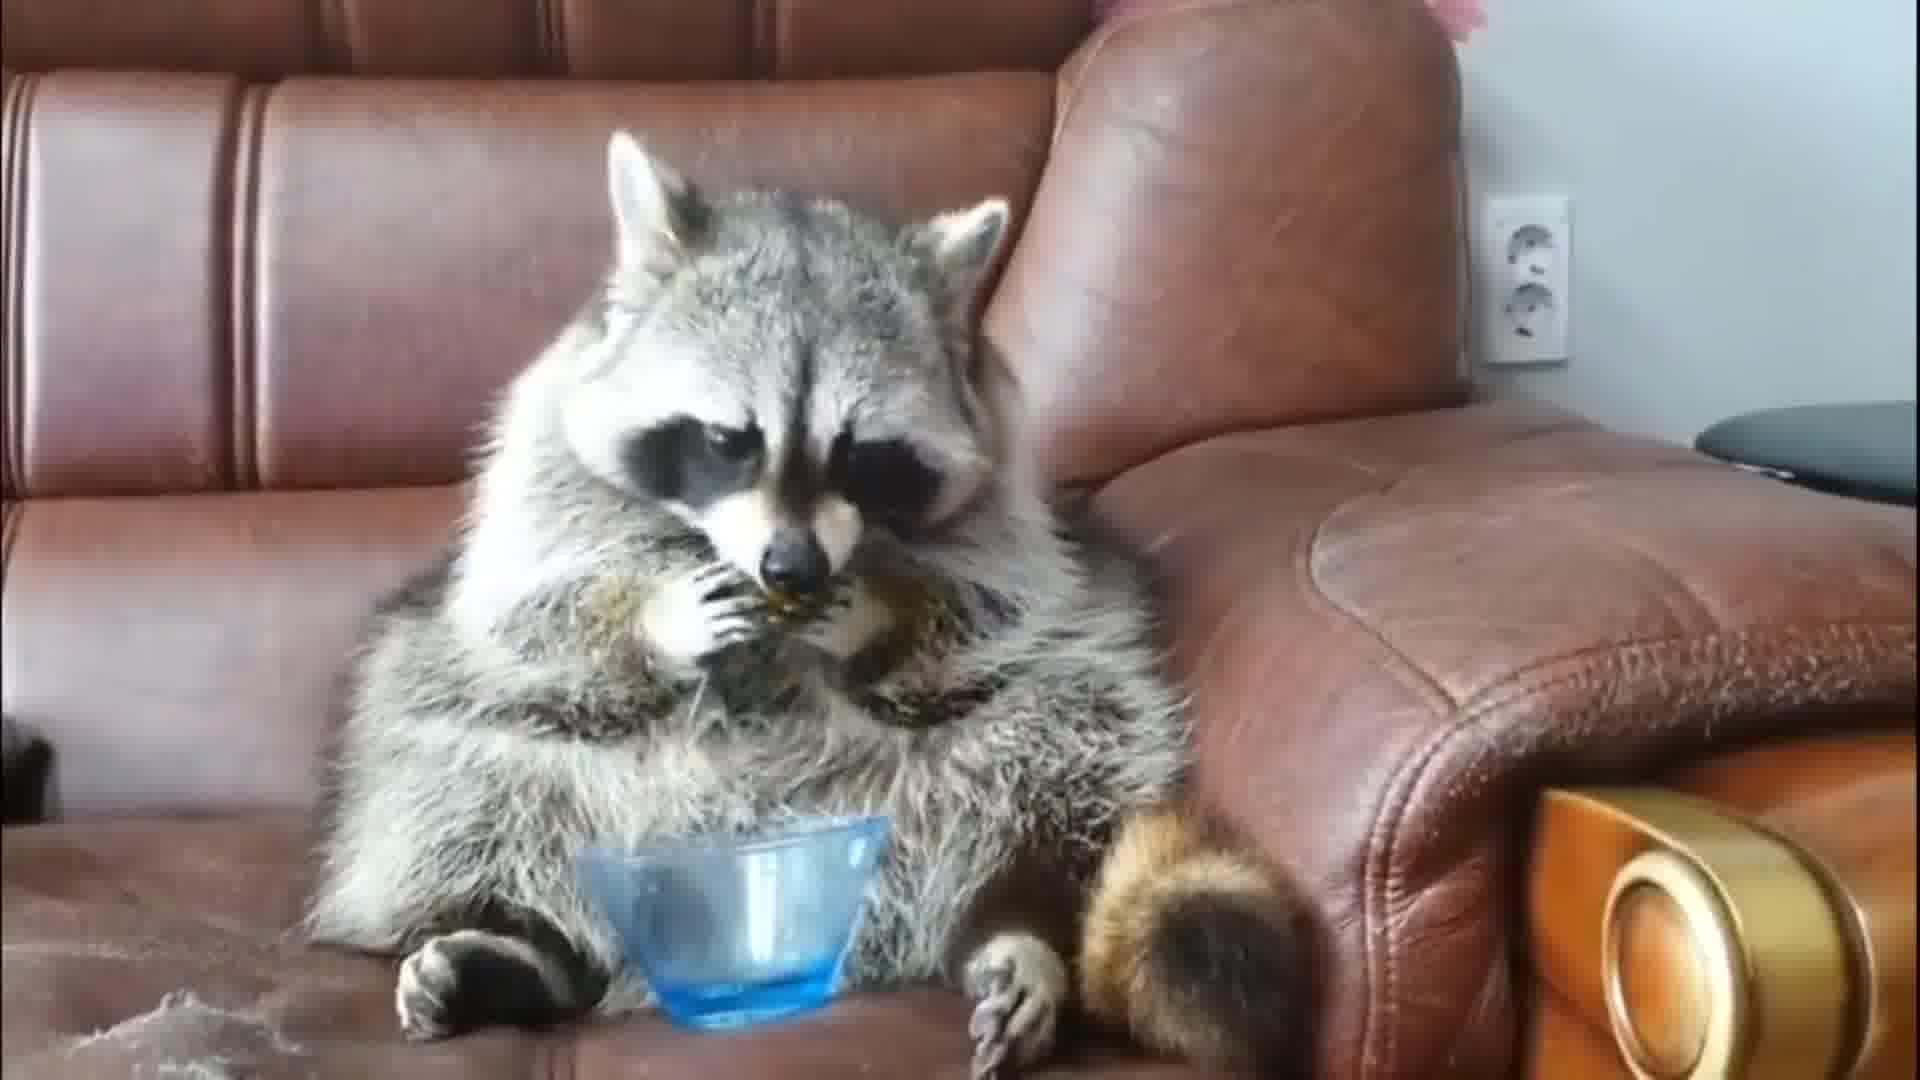raccoon: (320, 133, 1331, 1080)
